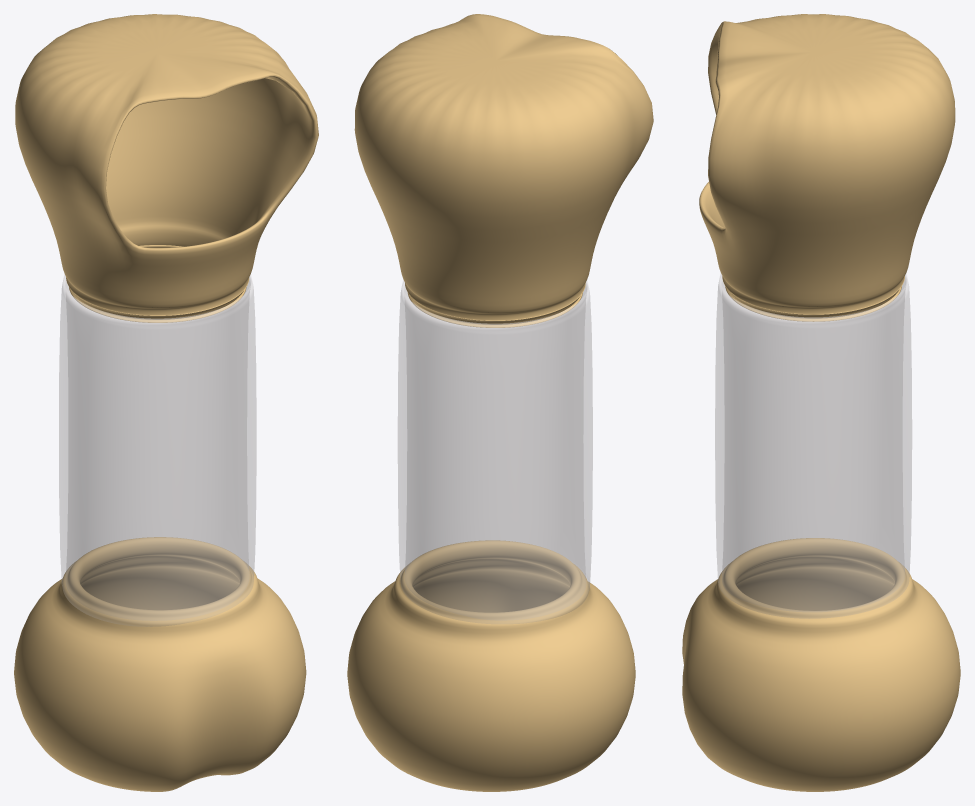
The model's file is yellow.glb.
3 renders of one model, left to right at view 1: azimuth 30°, elevation 25°; view 2: azimuth 150°, elevation 25°; view 3: azimuth 270°, elevation 25°, orthographic.
Visible parts, largest first — view 1: top cup, Cylinder, bottomcup; view 2: top cup, Cylinder, bottomcup; view 3: top cup, Cylinder, bottomcup.
Boxes of the visible parts, box(x1,y1,x2,y2) form: top cup: box(15, 14, 318, 322); Cylinder: box(59, 274, 256, 626); bottomcup: box(14, 537, 306, 791); top cup: box(354, 14, 653, 327); Cylinder: box(398, 280, 592, 623); bottomcup: box(347, 540, 635, 791); top cup: box(699, 14, 955, 321); Cylinder: box(715, 273, 911, 618); bottomcup: box(682, 538, 960, 791).
Size of the model in its own units: 3.04 by 8.1 by 2.9.
